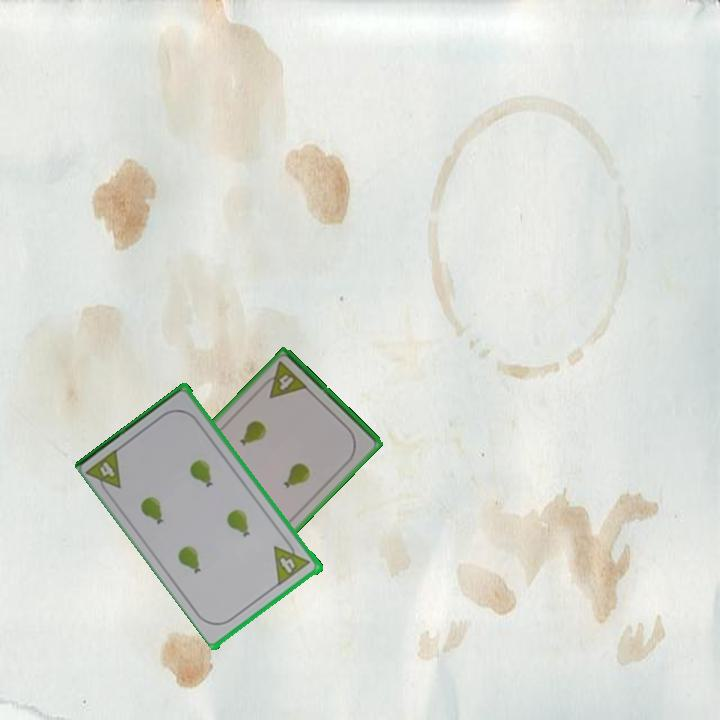4p: (257, 358, 311, 401), (270, 535, 313, 588), (84, 445, 125, 499)
